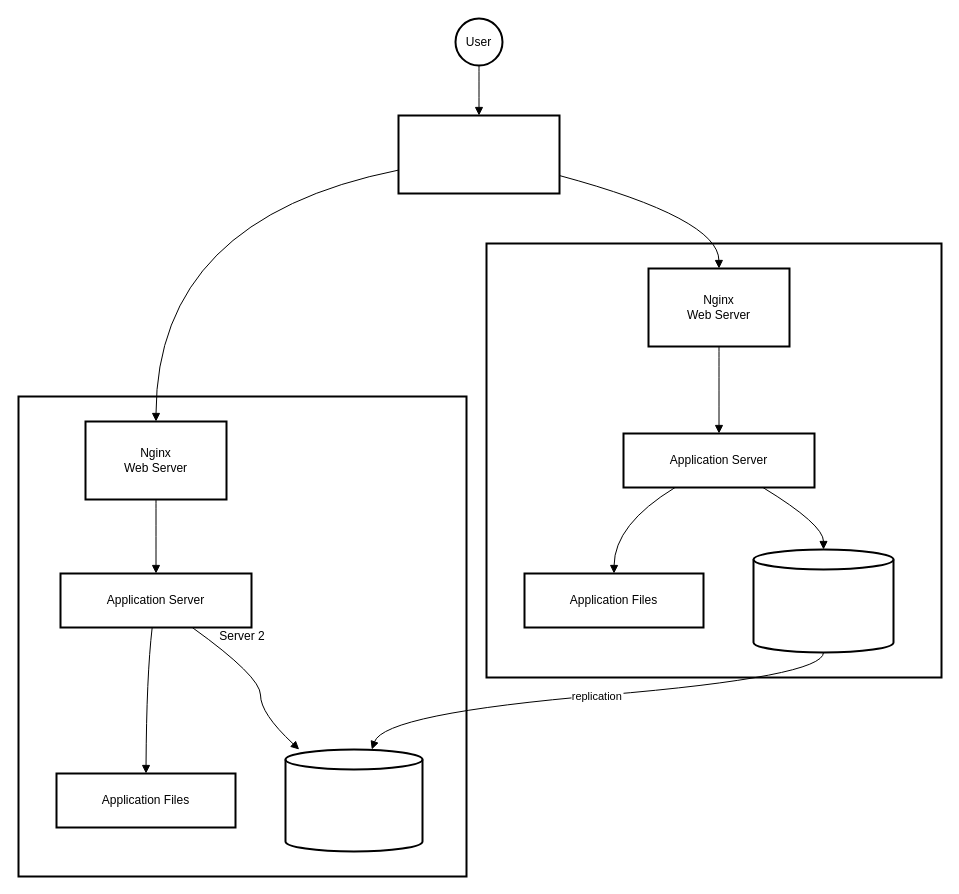
Some shapes in this 959 by 894 pixel diagram are drawn without their labels. Here are the shapes that lost their labels. From the top down, the centre of each, then its label:
At (x=478, y=154): "HAProxy Load Balancer".
At (x=823, y=600): "MySQL Primary Database".
At (x=353, y=800): "MySQL Replica Database".
